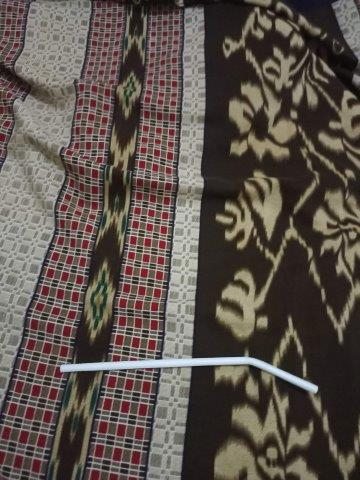sedotan: (60, 357, 318, 393)
